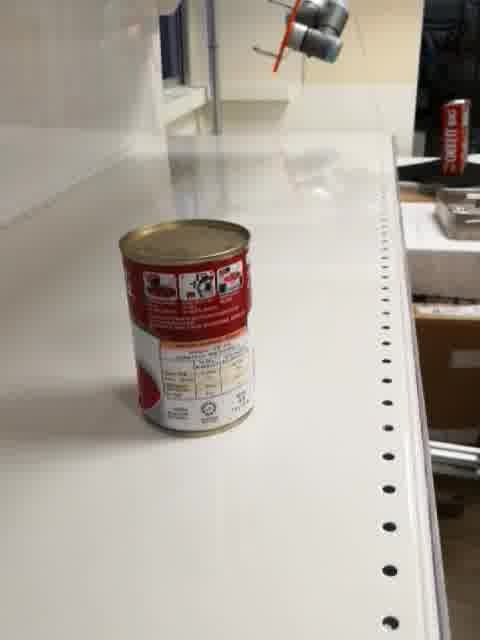tomatosoup: (116, 215, 260, 441)
